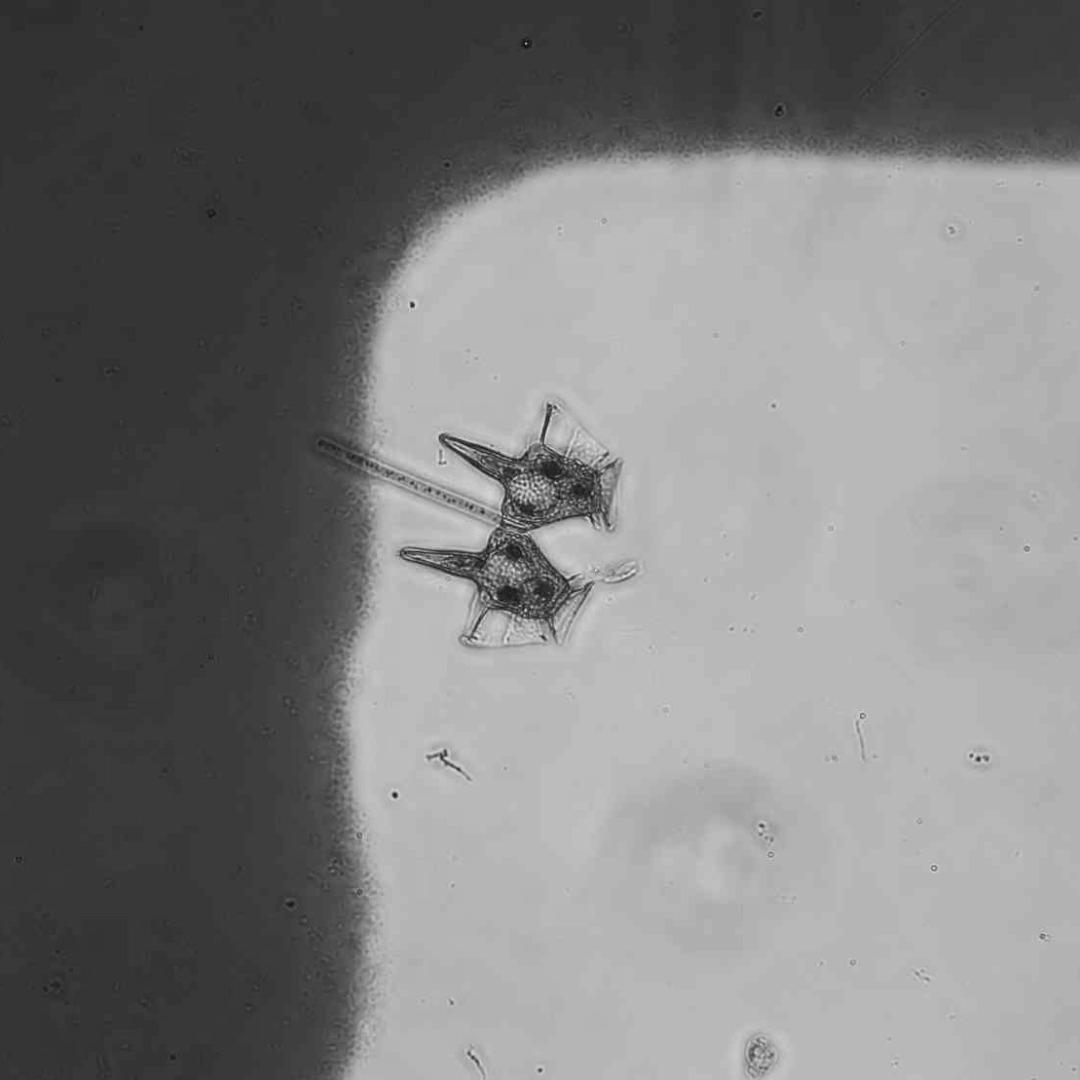dinophysis_caudata: (439, 399, 624, 532), (400, 527, 596, 651)
